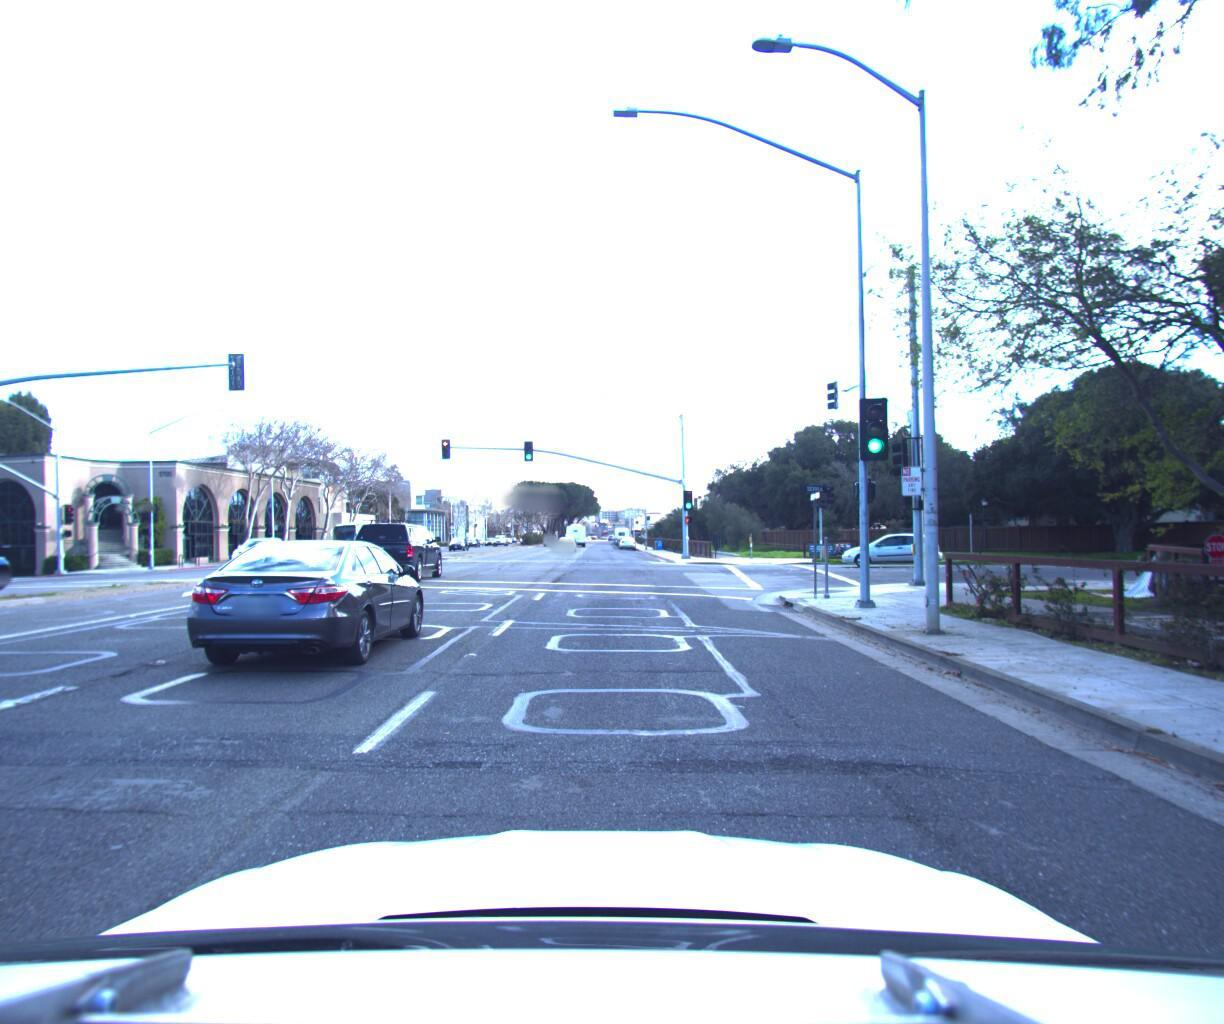car: (166, 522, 433, 679), (352, 513, 446, 579), (835, 524, 939, 560), (230, 530, 298, 563), (0, 523, 17, 619), (559, 529, 582, 547)
